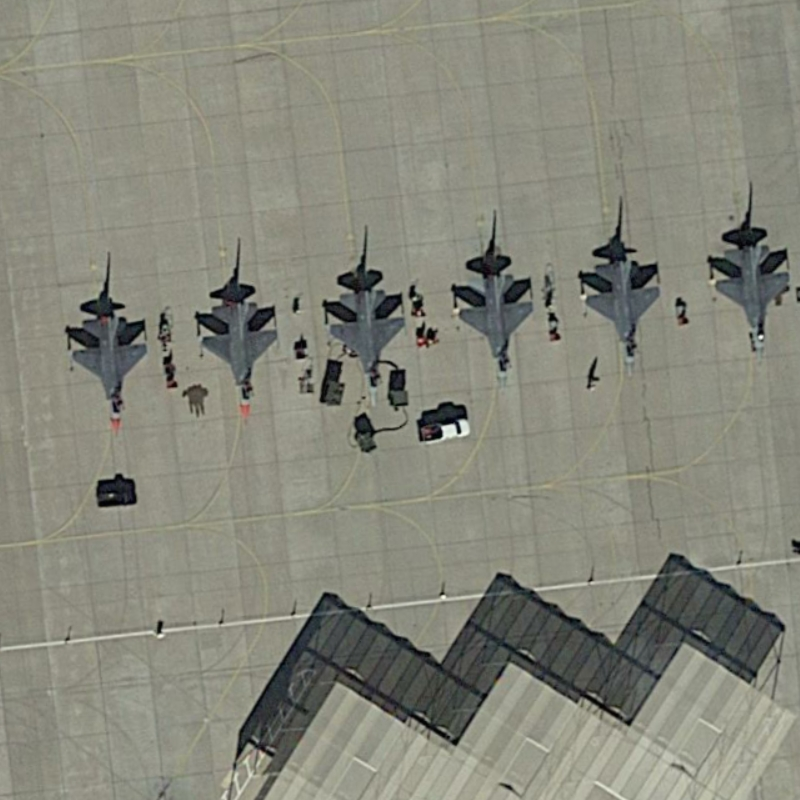A5: (582, 250, 669, 378), (452, 263, 537, 390), (322, 279, 408, 400), (707, 236, 792, 358), (65, 309, 155, 423), (195, 293, 282, 409)
